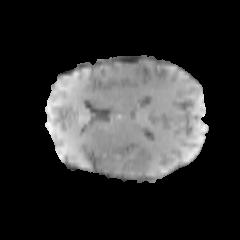glioma: (85, 139, 165, 176)
